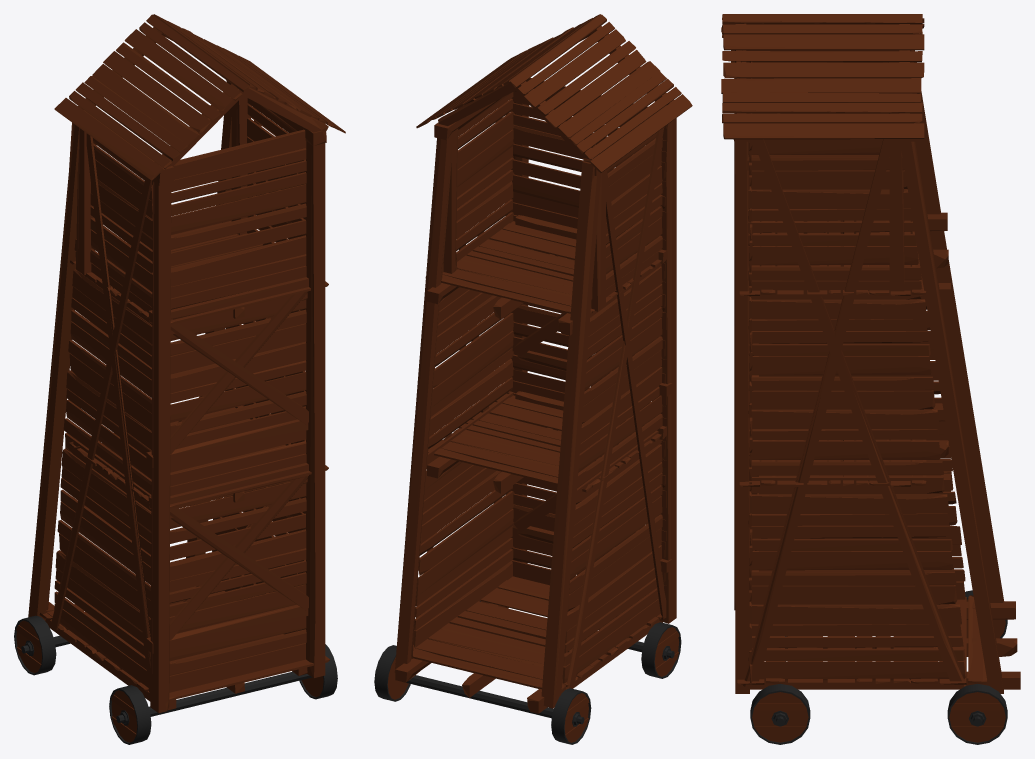
The model's file is SM_siegetower.fbx.
3 views of the same model, side by side, from view 1: azimuth 30°, elevation 25°; view 2: azimuth 150°, elevation 25°; view 3: azimuth 270°, elevation 25° (orthographic). The views are drawn at different scales.
Visible parts, largest first — view 1: Object113; view 2: Object113; view 3: Object113.
Boxes of the visible parts, box(x1,y1,x2,y2) form: Object113: box(14, 14, 345, 744); Object113: box(374, 14, 692, 744); Object113: box(721, 14, 1020, 744).
Bounding box in the file's own units: 172 × 203 × 510.
